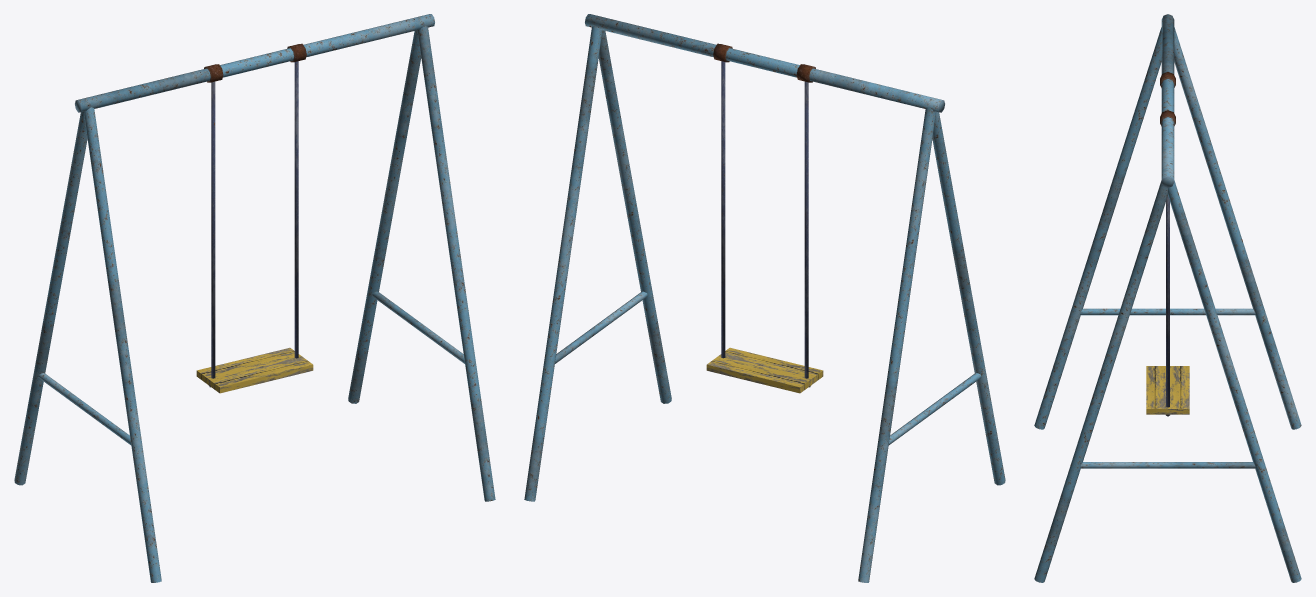
Rendered from playground_swing_lod1_web.glb.
3 views of the same model, side by side, from view 1: azimuth 30°, elevation 25°; view 2: azimuth 150°, elevation 25°; view 3: azimuth 270°, elevation 25° (orthographic). The views are drawn at different scales.
Visible parts, largest first — view 1: Swing_Frame, Swing_SeatMesh; view 2: Swing_Frame, Swing_SeatMesh; view 3: Swing_Frame, Swing_SeatMesh.
Part boxes in pixels (<box>): Swing_Frame: <box>14,14,495,582</box>; Swing_SeatMesh: <box>196,61,313,393</box>; Swing_Frame: <box>524,14,1005,582</box>; Swing_SeatMesh: <box>706,61,823,393</box>; Swing_Frame: <box>1034,14,1301,582</box>; Swing_SeatMesh: <box>1146,196,1189,416</box>.
Size of the model in its own units: 2.12 by 2.5 by 1.47.
Materials: 4 (4 with a texture image).
